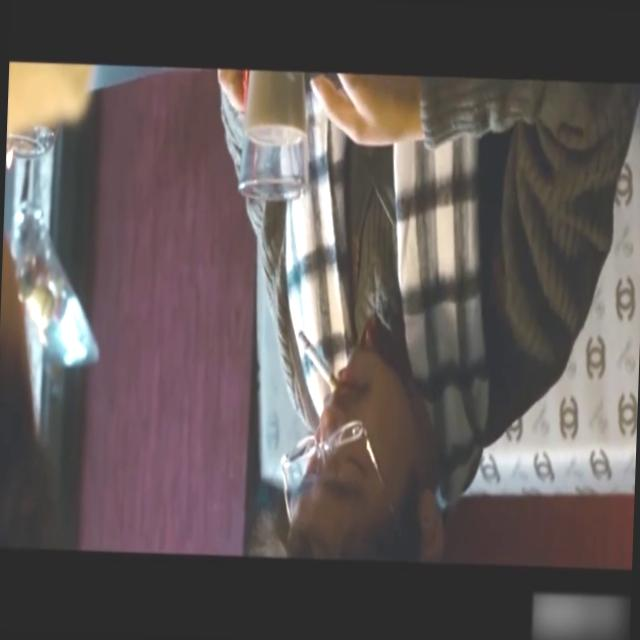smoke: (291, 322, 346, 397)
